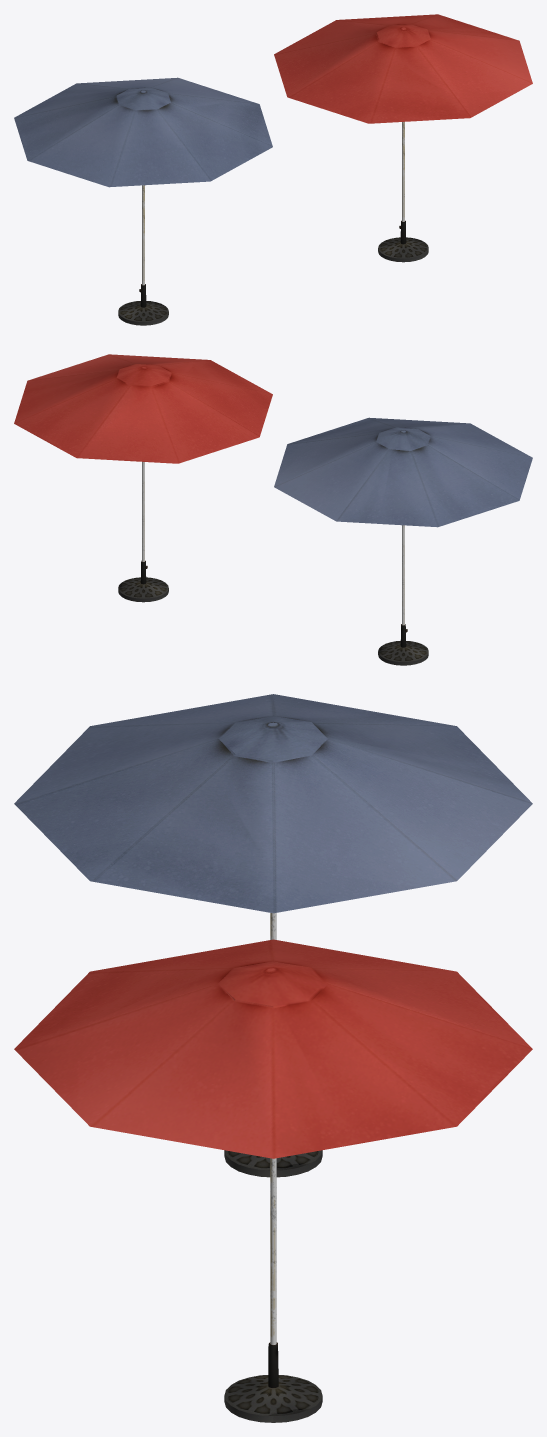
File: outdoor_umbrella.glb
3 views of the same model, one above another, from view 1: azimuth 30°, elevation 25°; view 2: azimuth 150°, elevation 25°; view 3: azimuth 270°, elevation 25° (orthographic). The views are drawn at different scales.
Visible parts, largest first — view 1: Cylinder.001, Cylinder; view 2: Cylinder.001, Cylinder; view 3: Cylinder.001, Cylinder.
Boxes of the visible parts, box(x1,y1,x2,y2) form: Cylinder.001: box(274, 14, 532, 262); Cylinder: box(14, 77, 272, 325); Cylinder.001: box(14, 354, 272, 602); Cylinder: box(274, 417, 532, 665); Cylinder.001: box(14, 939, 532, 1422); Cylinder: box(14, 694, 532, 1177).
Bounding box in the file's own units: 6.3 × 2.74 × 2.97.
1 material, 1 textured.
